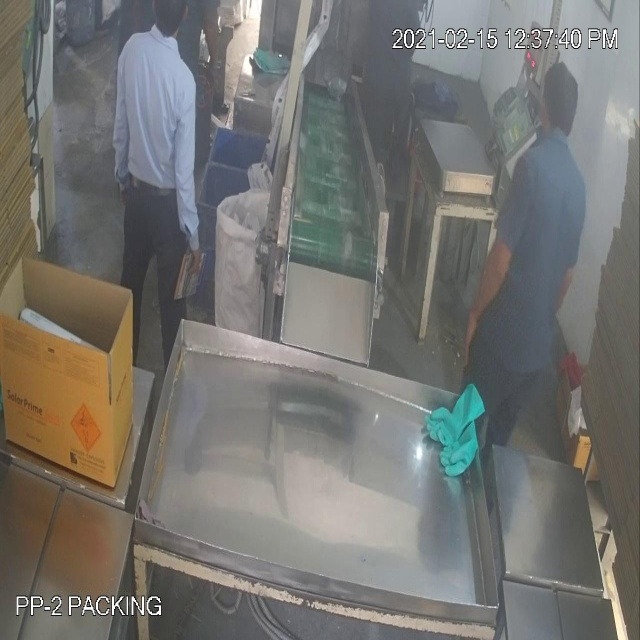Sin_guantes: (461, 222, 513, 370), (175, 87, 206, 285), (199, 1, 226, 119)
